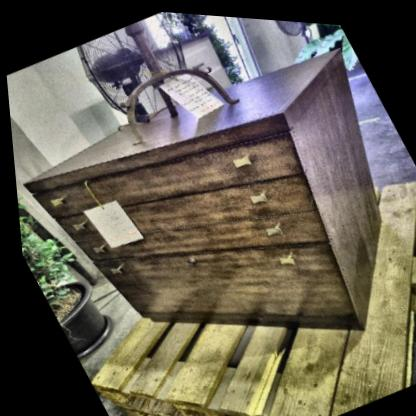Sideboard: (22, 47, 379, 329)
